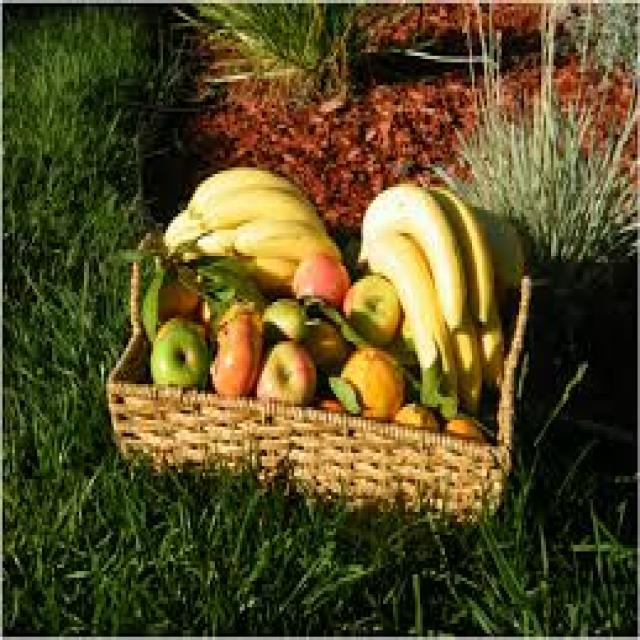biodegradable: (366, 227, 457, 420), (358, 177, 465, 335), (425, 180, 492, 325), (198, 187, 321, 240), (183, 161, 296, 217), (230, 213, 343, 266), (329, 338, 400, 420), (146, 312, 203, 391), (469, 200, 519, 289), (338, 269, 398, 341), (205, 312, 257, 394), (252, 338, 314, 404), (190, 246, 257, 302), (292, 249, 346, 312), (450, 312, 479, 413), (472, 286, 499, 391), (299, 315, 346, 374), (232, 253, 294, 292), (260, 296, 307, 342), (163, 204, 203, 253), (188, 220, 237, 259), (393, 394, 442, 430), (141, 259, 165, 328), (322, 368, 359, 410), (443, 404, 485, 440), (114, 246, 153, 273), (317, 394, 344, 407)
